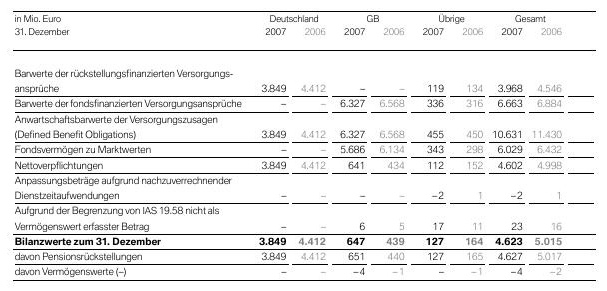table: (0, 0, 607, 291)
